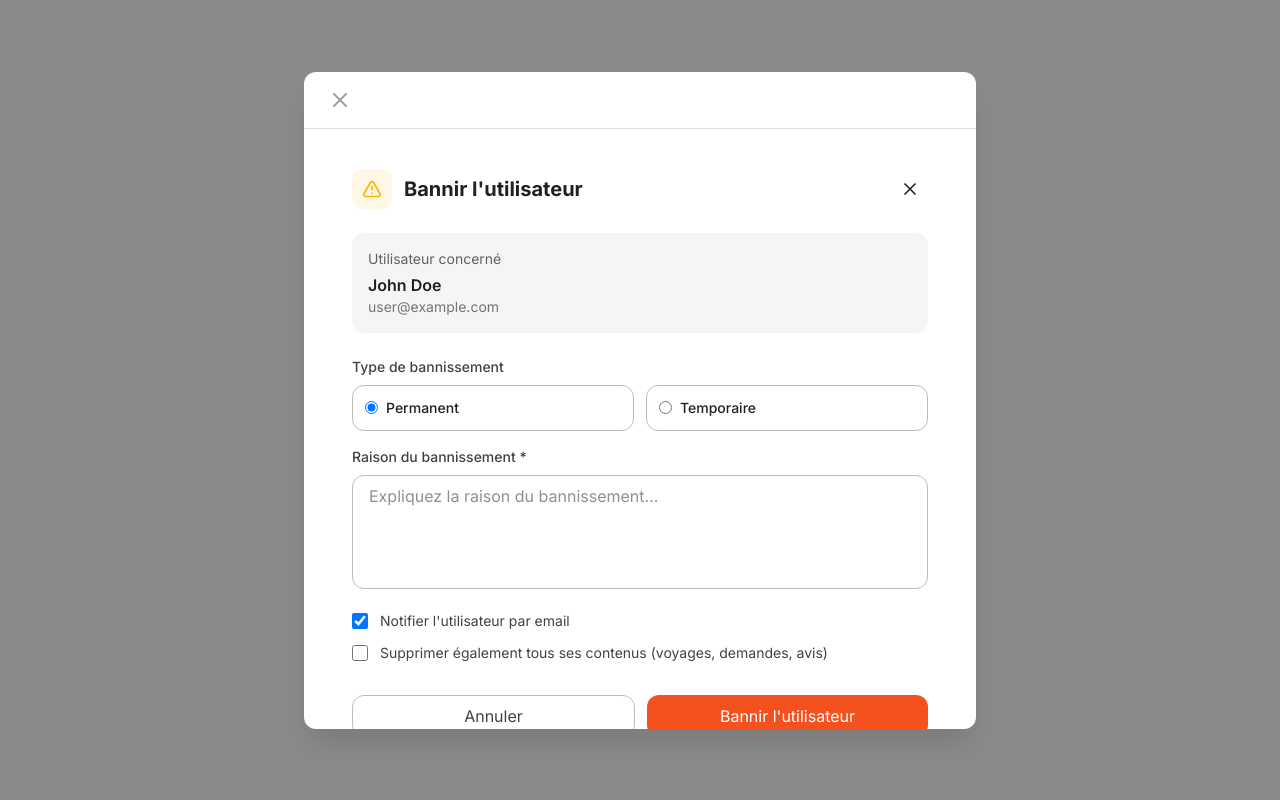
Test: BanUserModal - logique metier › n'affiche la date de fin que pour un bannissement temporaire
Expected: the field labelled "date de fin du bannissement" is not shown
Click the radio button labelled "Temporaire": x=666, y=408 [659,401,672,414]
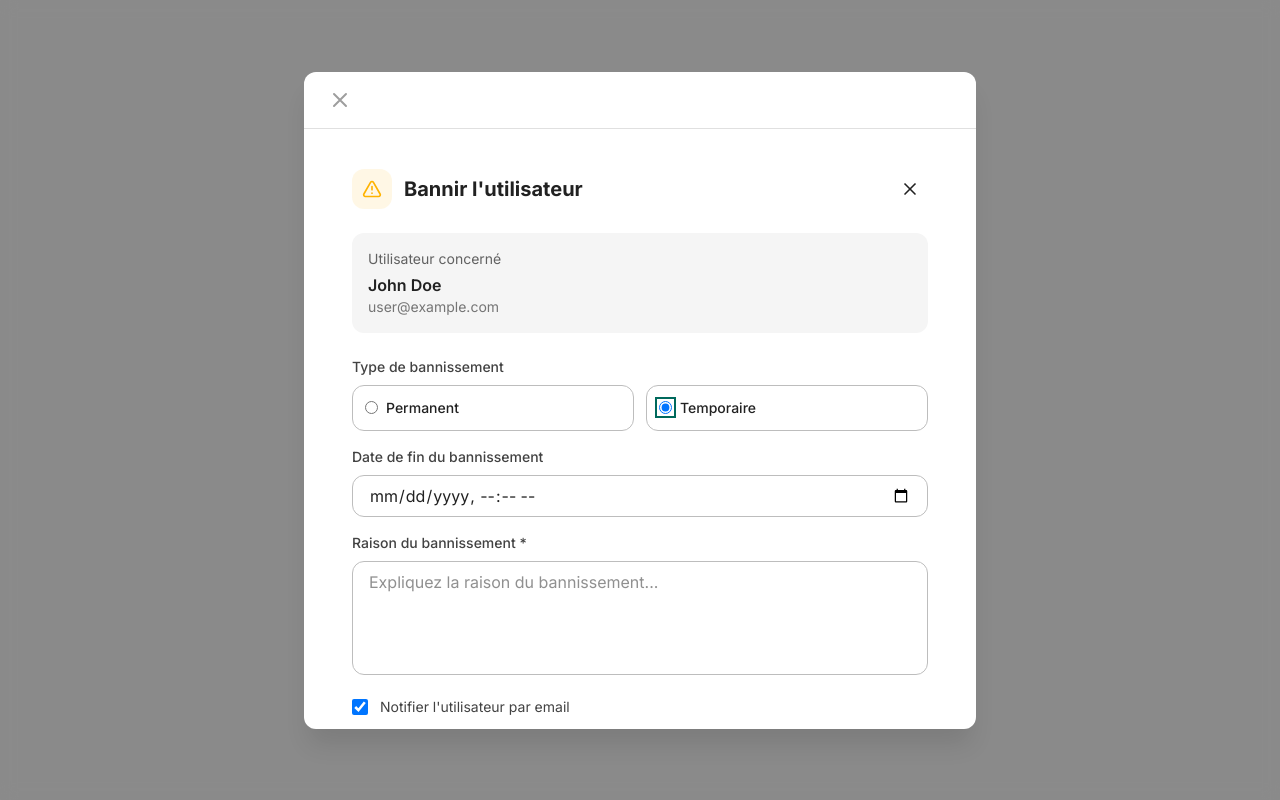
Expected: the text "Date de fin du bannissement" is shown, [352,448,543,464]
